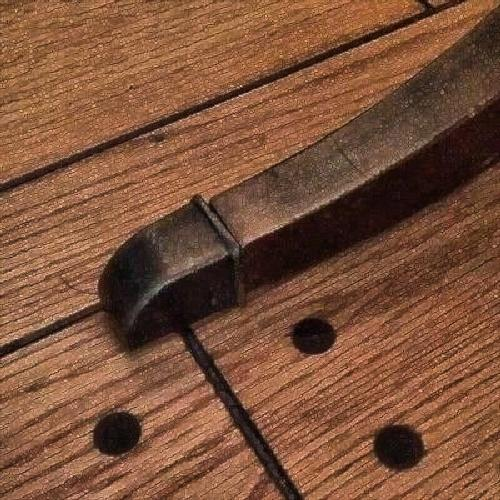table: (29, 24, 477, 446)
